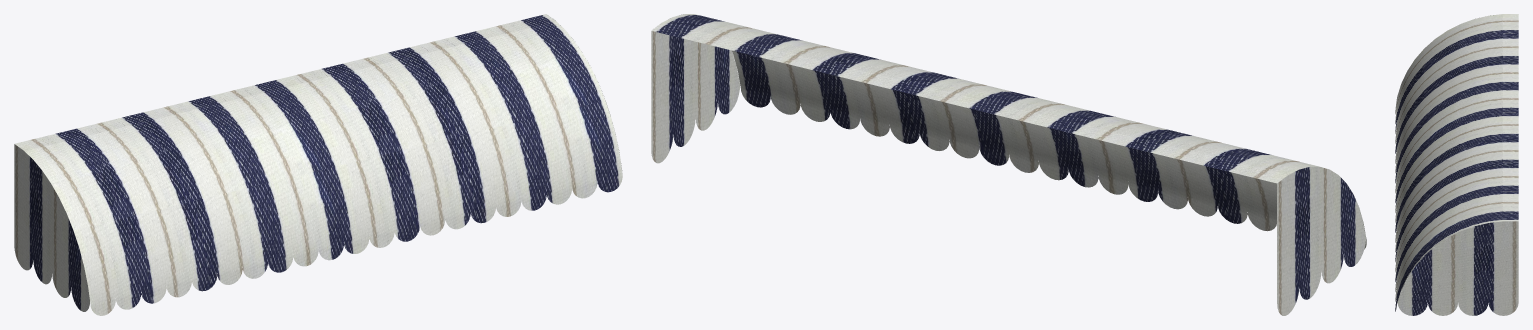
Rendered from capota.glb.
3 views of the same model, side by side, from view 1: azimuth 30°, elevation 25°; view 2: azimuth 150°, elevation 25°; view 3: azimuth 270°, elevation 25° (orthographic). The views are drawn at different scales.
Visible parts, largest first — view 1: Group_001_1; view 2: Group_001_1; view 3: Group_001_1.
Boxes of the visible parts, x1,y1,x2,y2 form: Group_001_1: (14, 14, 622, 315); Group_001_1: (651, 14, 1366, 315); Group_001_1: (1395, 14, 1518, 315).
Size of the model in its own units: 2.16 by 0.4593 by 0.5428.
Materials: 1 (1 with a texture image).
